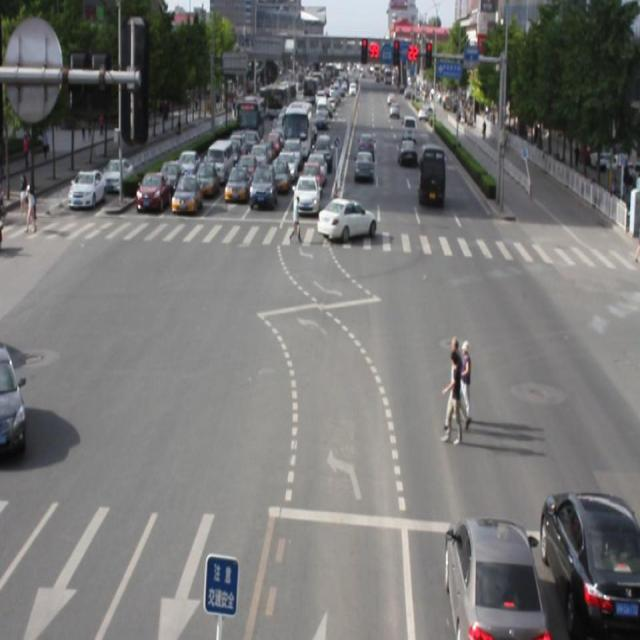car: (535, 493, 640, 640), (442, 516, 541, 640), (317, 197, 376, 240)
